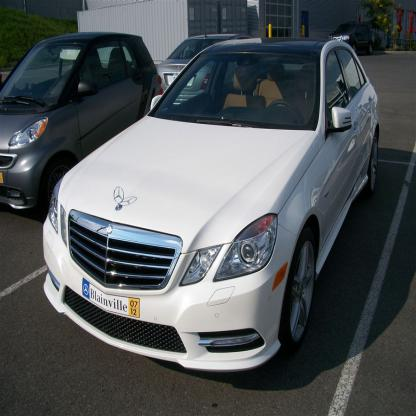Vehicle: (42, 38, 379, 373)
